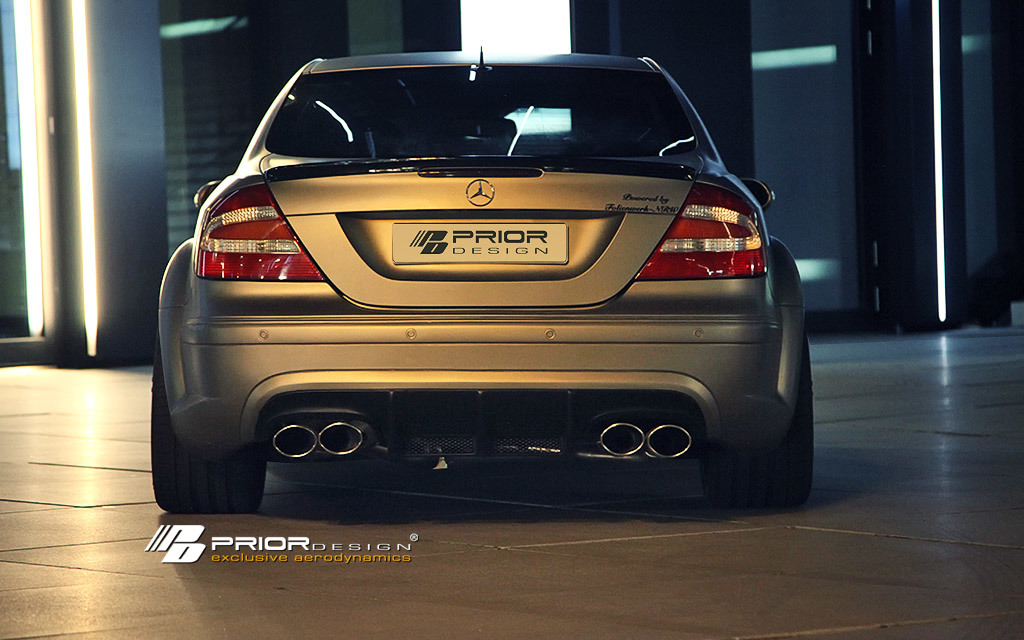Car: (151, 49, 810, 512)
